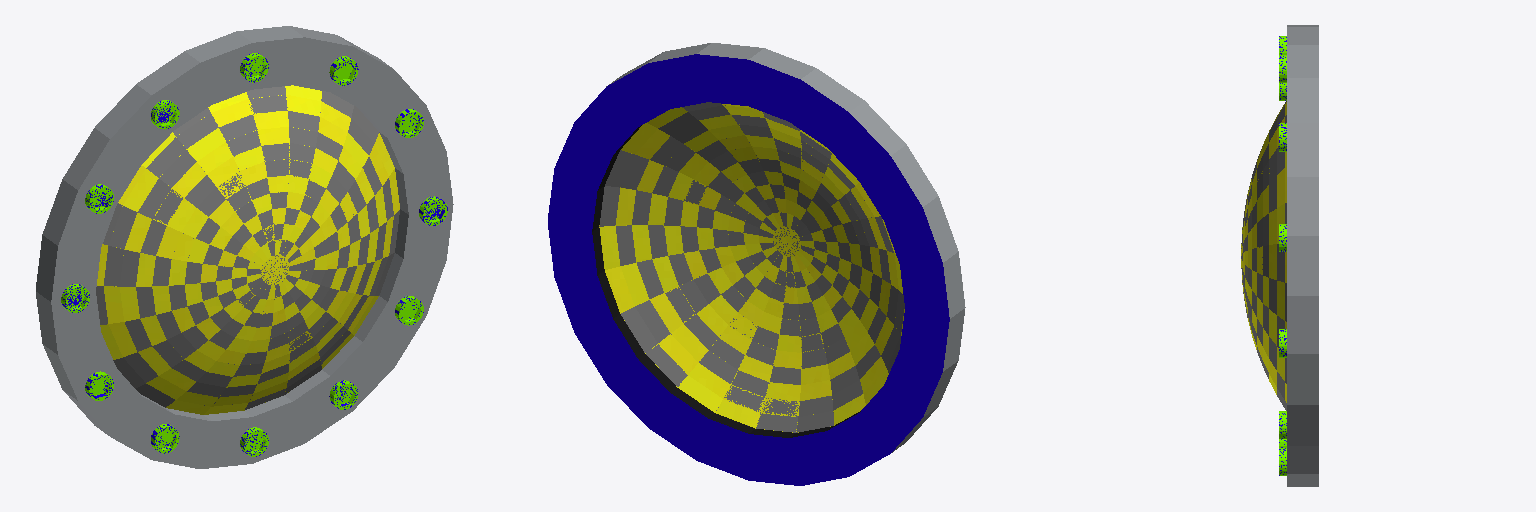
The picture shows the model from 3 angles: view 1: azimuth 30°, elevation 25°; view 2: azimuth 150°, elevation 25°; view 3: azimuth 270°, elevation 25°; orthographic projection.
Visible parts, largest first — view 1: Mesh13 Component_3_1 Model, Mesh4 Component_2_4 Component_3_1 Model, Mesh8 Component_2_8 Component_3_1 Model, Mesh11 Component_2_11 Component_3_1 Model, Mesh5 Component_2_5 Component_3_1 Model, Mesh7 Component_2_7 Component_3_1 Model, Mesh3 Component_2_3 Component_3_1 Model, Mesh1 Component_2_1 Component_3_1 Model, Mesh12 Component_2_12 Component_3_1 Model, Mesh9 Component_2_9 Component_3_1 Model, Mesh10 Component_2_10 Component_3_1 Model, Mesh2 Component_2_2 Component_3_1 Model (+1 smaller); view 2: Mesh13 Component_3_1 Model; view 3: Mesh13 Component_3_1 Model.
Boxes of the visible parts, x1=… form: Mesh13 Component_3_1 Model: x1=36, y1=26, x2=453, y2=468; Mesh4 Component_2_4 Component_3_1 Model: x1=85, y1=184, x2=113, y2=213; Mesh8 Component_2_8 Component_3_1 Model: x1=240, y1=427, x2=268, y2=456; Mesh11 Component_2_11 Component_3_1 Model: x1=395, y1=296, x2=423, y2=325; Mesh5 Component_2_5 Component_3_1 Model: x1=240, y1=53, x2=268, y2=82; Mesh7 Component_2_7 Component_3_1 Model: x1=151, y1=424, x2=179, y2=453; Mesh3 Component_2_3 Component_3_1 Model: x1=419, y1=196, x2=447, y2=225; Mesh1 Component_2_1 Component_3_1 Model: x1=395, y1=109, x2=423, y2=137; Mesh12 Component_2_12 Component_3_1 Model: x1=329, y1=56, x2=358, y2=85; Mesh9 Component_2_9 Component_3_1 Model: x1=85, y1=371, x2=113, y2=400; Mesh10 Component_2_10 Component_3_1 Model: x1=61, y1=284, x2=89, y2=312; Mesh2 Component_2_2 Component_3_1 Model: x1=151, y1=100, x2=179, y2=129; Mesh13 Component_3_1 Model: x1=548, y1=43, x2=965, y2=485; Mesh13 Component_3_1 Model: x1=1241, y1=25, x2=1318, y2=486.
Size of the model in its own units: 0.2572 by 0.2572 by 0.0429.
Materials: 6 (1 with a texture image).